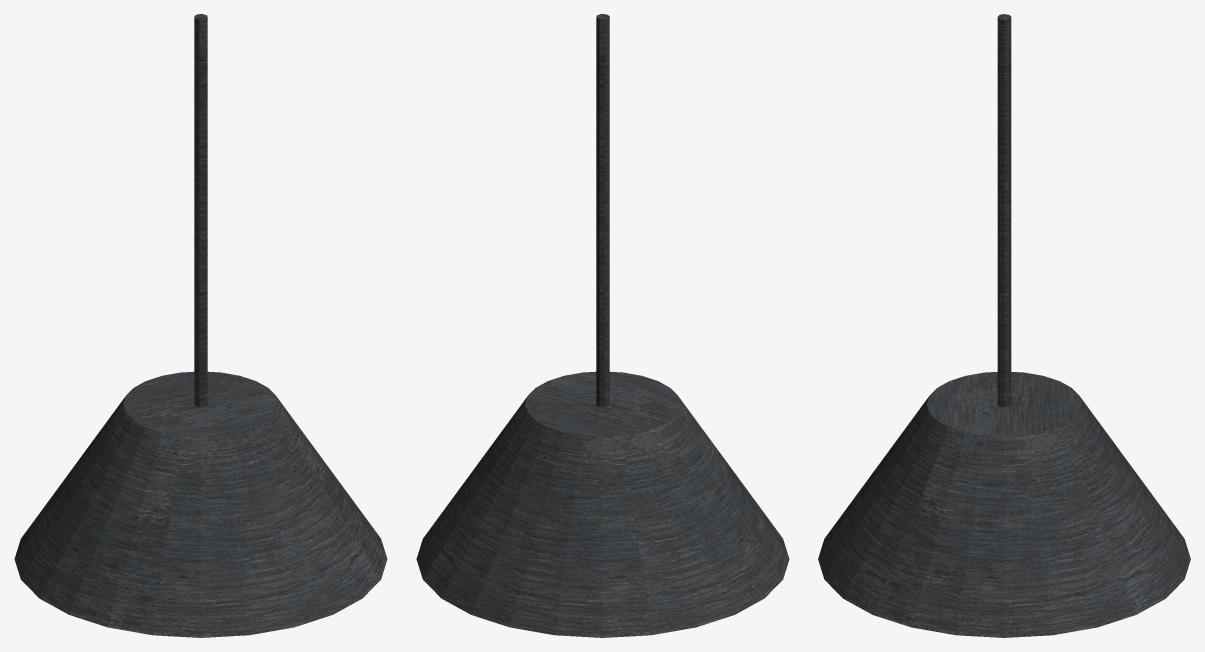
File: commons-pendant-light.glb
The picture shows the model from 3 angles, left to right: view 1: azimuth 30°, elevation 25°; view 2: azimuth 150°, elevation 25°; view 3: azimuth 270°, elevation 25°; orthographic projection.
Visible parts, largest first — view 1: LGT_Shade.005, LGT_PendantDrop.005; view 2: LGT_Shade.005, LGT_PendantDrop.005; view 3: LGT_Shade.005, LGT_PendantDrop.005.
Boxes of the visible parts, box(x1,y1,x2,y2) form: LGT_Shade.005: box(14, 371, 387, 637); LGT_PendantDrop.005: box(194, 14, 207, 406); LGT_Shade.005: box(416, 371, 789, 637); LGT_PendantDrop.005: box(596, 14, 609, 406); LGT_Shade.005: box(818, 372, 1190, 637); LGT_PendantDrop.005: box(997, 14, 1011, 406).
Size of the model in its own units: 0.48 by 0.774 by 0.48.
Materials: 2 (1 with a texture image).
